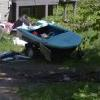Boat: (12, 11, 81, 58)
